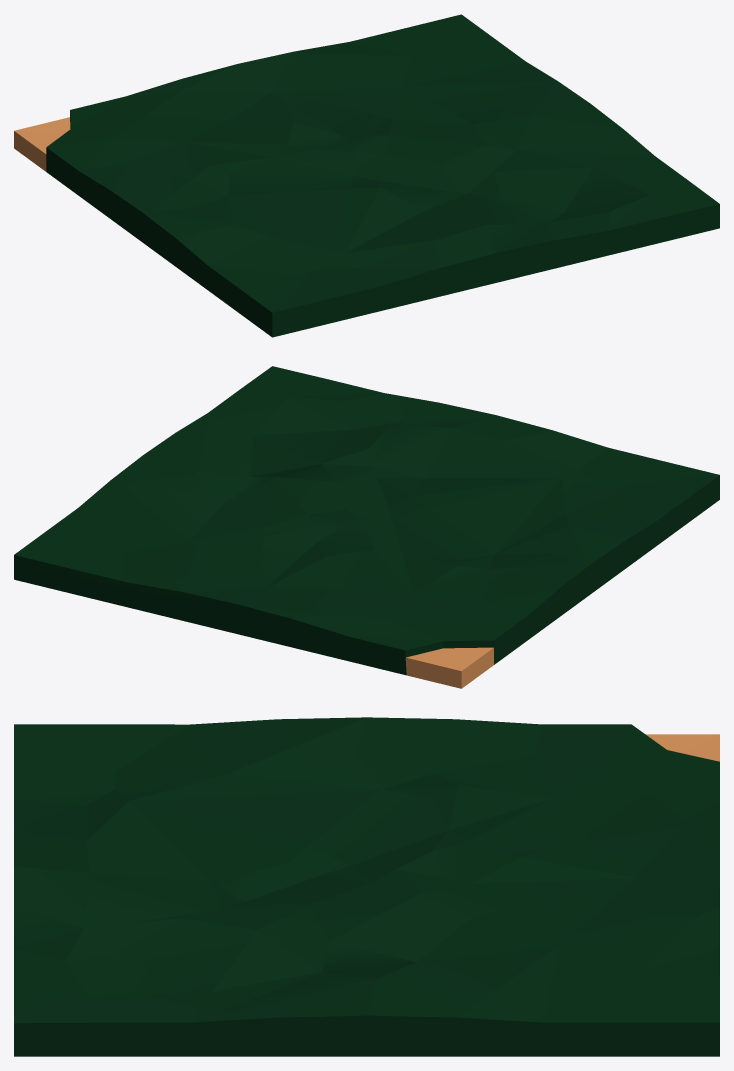
Rendered from Road_green.FBX.
The picture shows the model from 3 angles, top to bottom: view 1: azimuth 30°, elevation 25°; view 2: azimuth 150°, elevation 25°; view 3: azimuth 270°, elevation 25°; orthographic projection. The views are drawn at different scales.
Parts seen in each view (by area): view 1: Road_green; view 2: Road_green; view 3: Road_green.
Boxes of the visible parts, <box> form: Road_green: <box>14,14,719,337</box>; Road_green: <box>14,366,719,688</box>; Road_green: <box>14,717,719,1056</box>.
Size of the model in its own units: 1.5 by 0.1065 by 1.5.
Materials: 1 (1 with a texture image).
